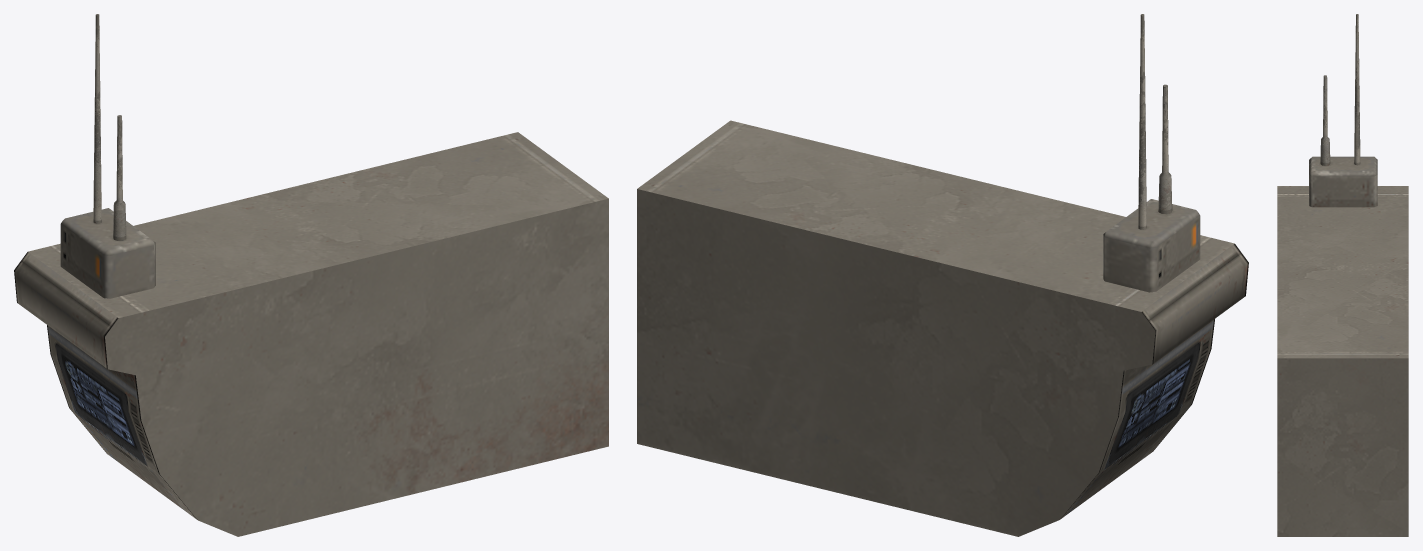
Rendered from CP_Canopy_Industrial_Screen.fbx.
3 views of the same model, side by side, from view 1: azimuth 30°, elevation 25°; view 2: azimuth 150°, elevation 25°; view 3: azimuth 270°, elevation 25° (orthographic). The views are drawn at different scales.
Parts seen in each view (by area): view 1: CP_Canopy_Industrial_Screen; view 2: CP_Canopy_Industrial_Screen; view 3: CP_Canopy_Industrial_Screen.
Part boxes in pixels (<box>): CP_Canopy_Industrial_Screen: <box>14,14,608,536</box>; CP_Canopy_Industrial_Screen: <box>637,14,1248,536</box>; CP_Canopy_Industrial_Screen: <box>1277,14,1408,536</box>.
Size of the model in its own units: 166 by 158 by 51.84.
